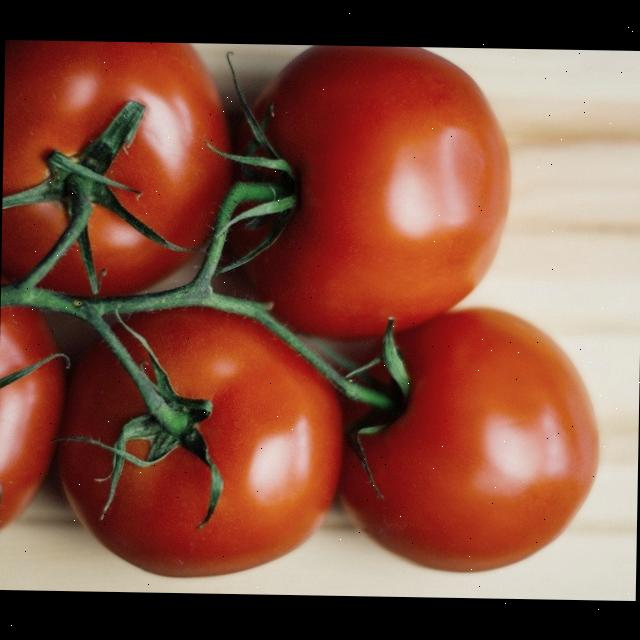tomato: (44, 296, 366, 580), (212, 49, 518, 322), (338, 305, 620, 579), (1, 44, 240, 302), (0, 273, 78, 579)
